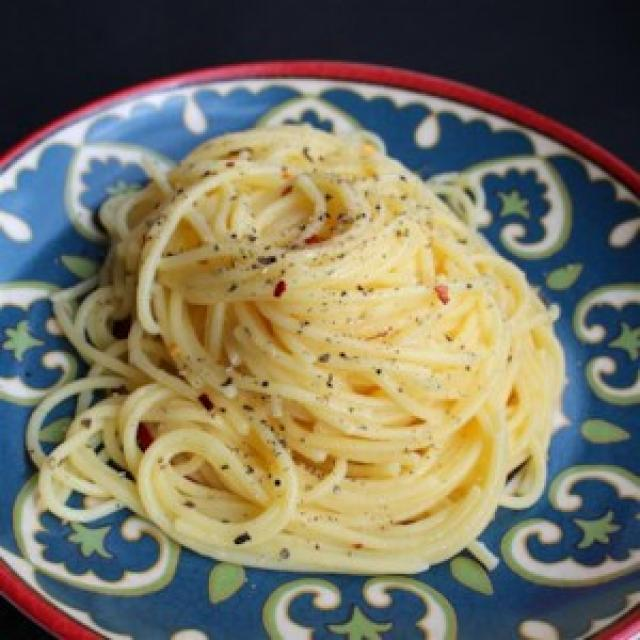Oil pasta: (94, 101, 564, 600)
